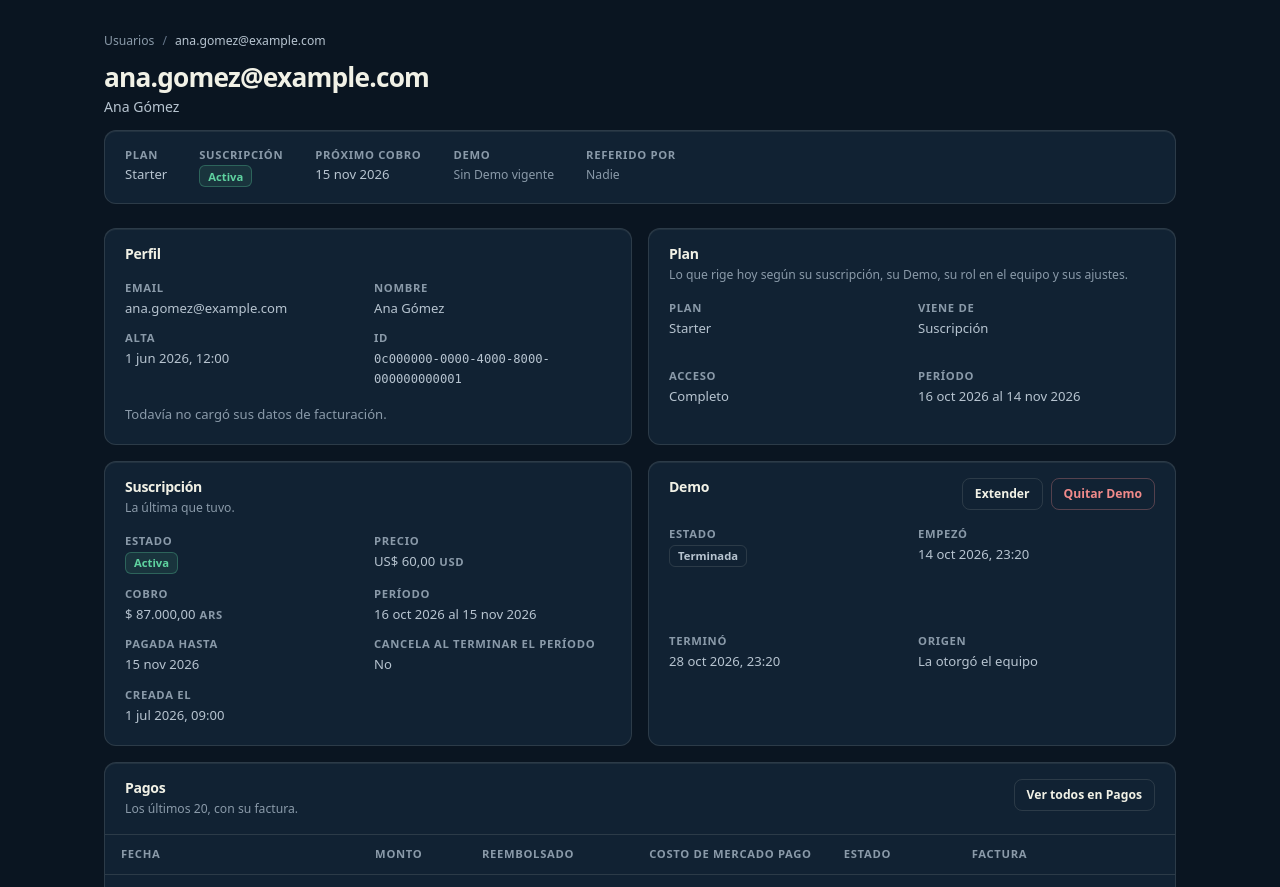
Test case: CustomerDetailScreen › words the extend and the take away of a Demo that already ended
Click the button "Extender" at (1002, 494), box [962,478,1043,510]
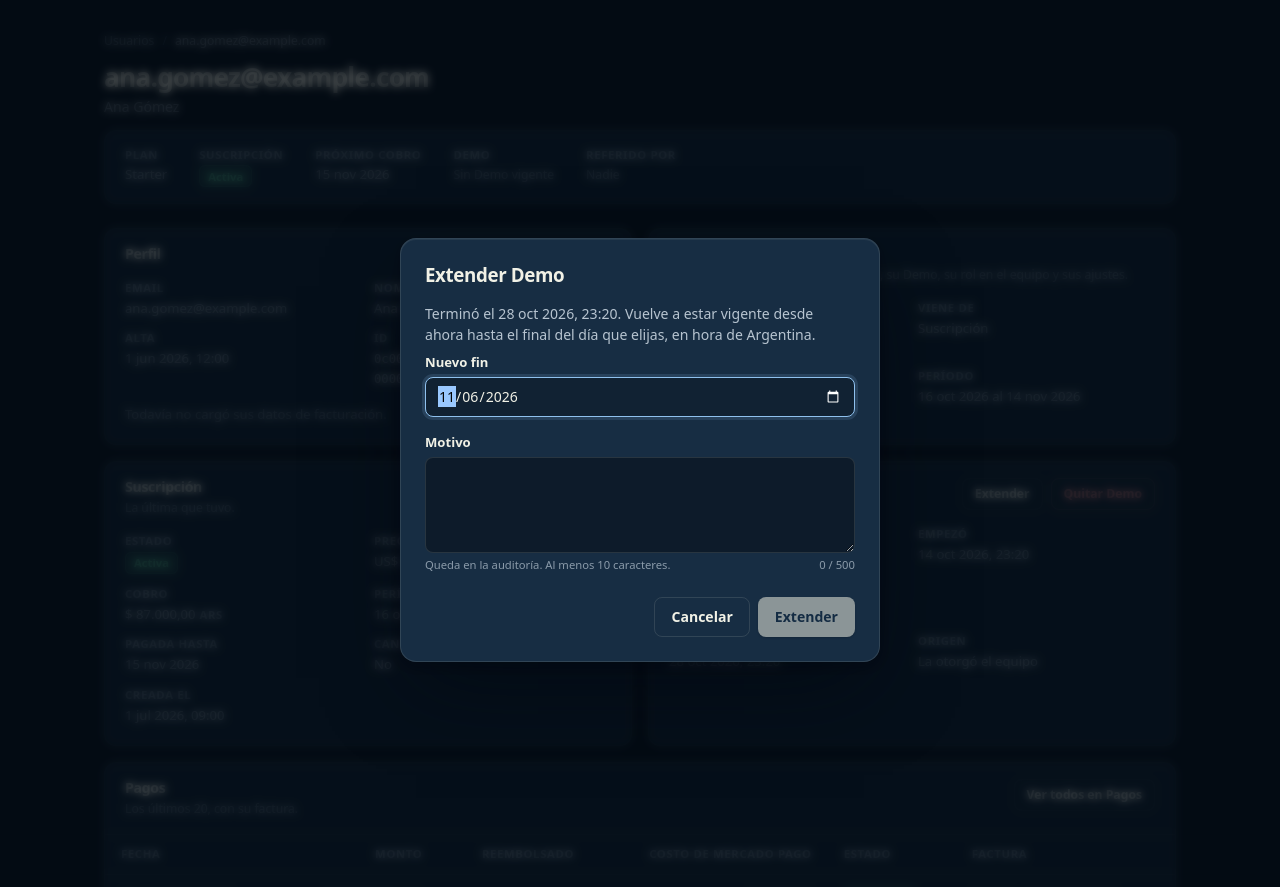
Click the button "Cancelar" at (702, 617), box [654,597,750,637]
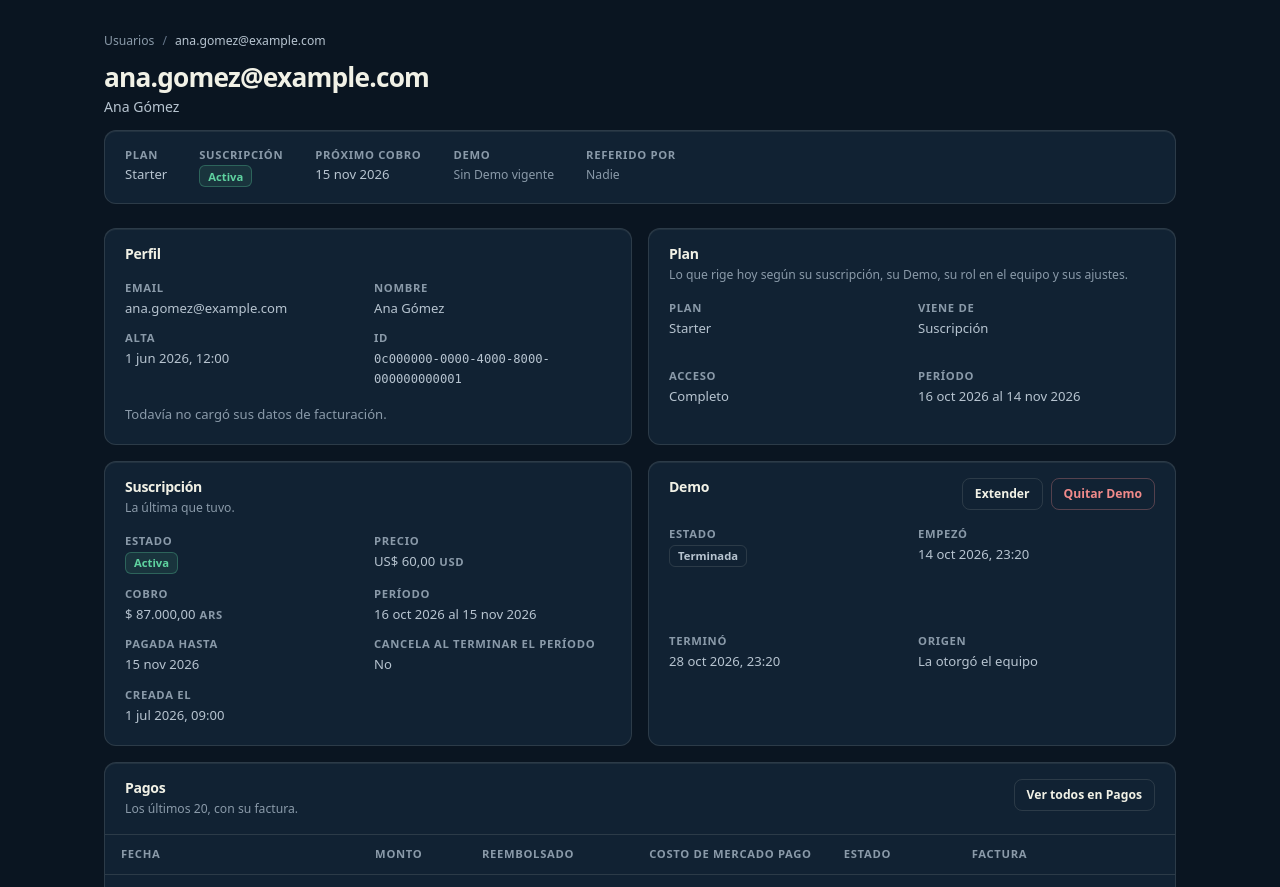
Click the button "Quitar Demo" at (1103, 494), box [1051,478,1155,510]
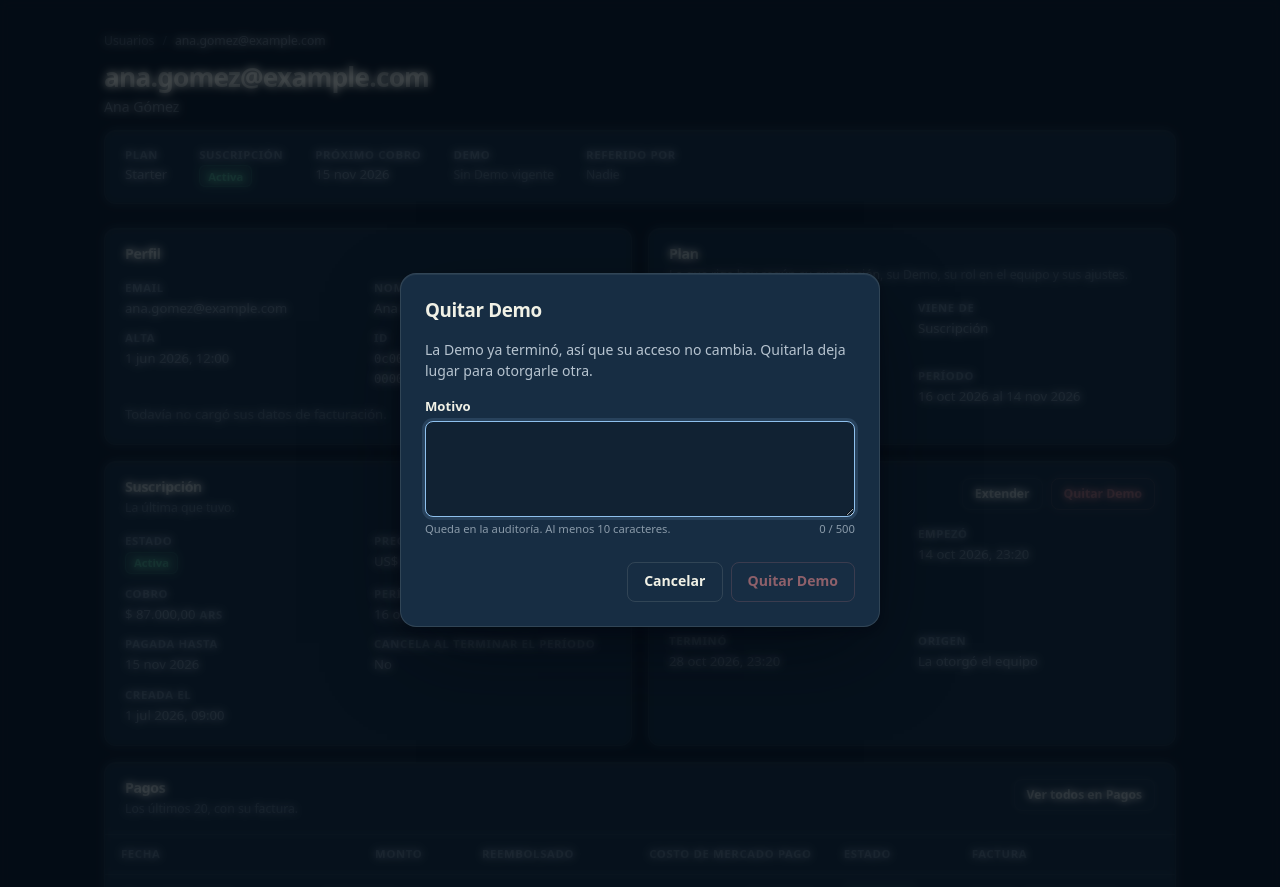
Check: the text "La Demo ya terminó, así que su acceso no cambia. Quitarla deja lugar para otorgarle otra." is shown, box [425,340,846,380]
